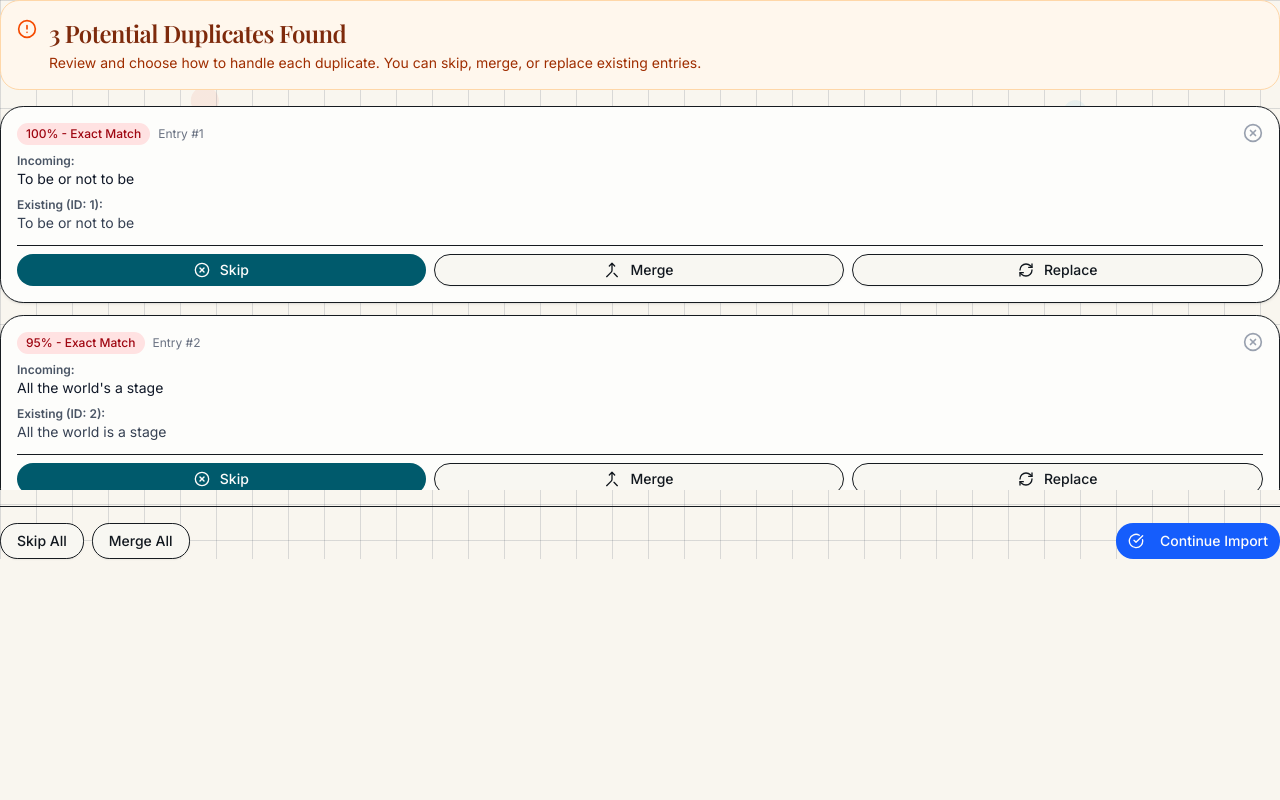
it: DuplicateConflictResolver › should close detail dialog when close button is clicked
Click on a duplicate card to open detail dialog
Click the text "Entry #1" at (181, 134), box [158, 126, 204, 142]
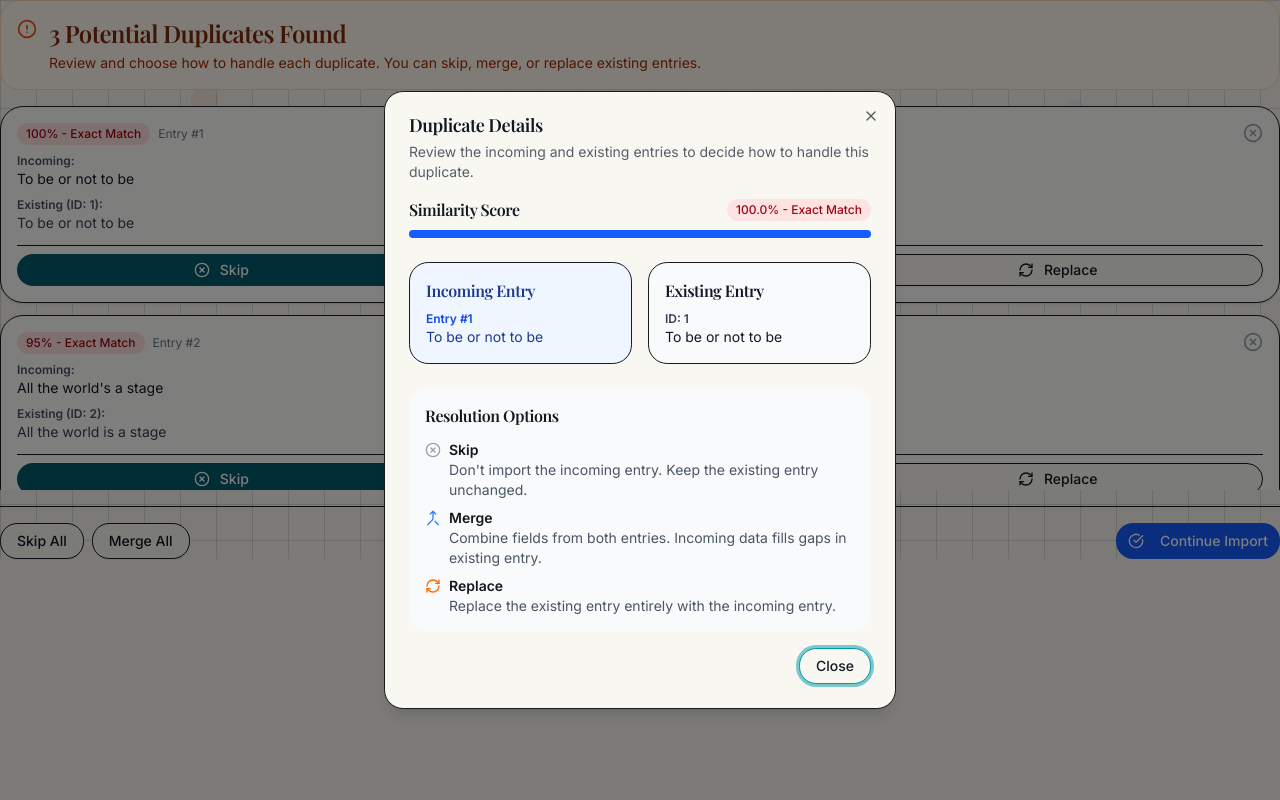
expect the heading "Duplicate Details" is shown: met, box [409, 113, 543, 137]
Click close button
Click the button "Close" at (835, 666), box [799, 648, 871, 684]
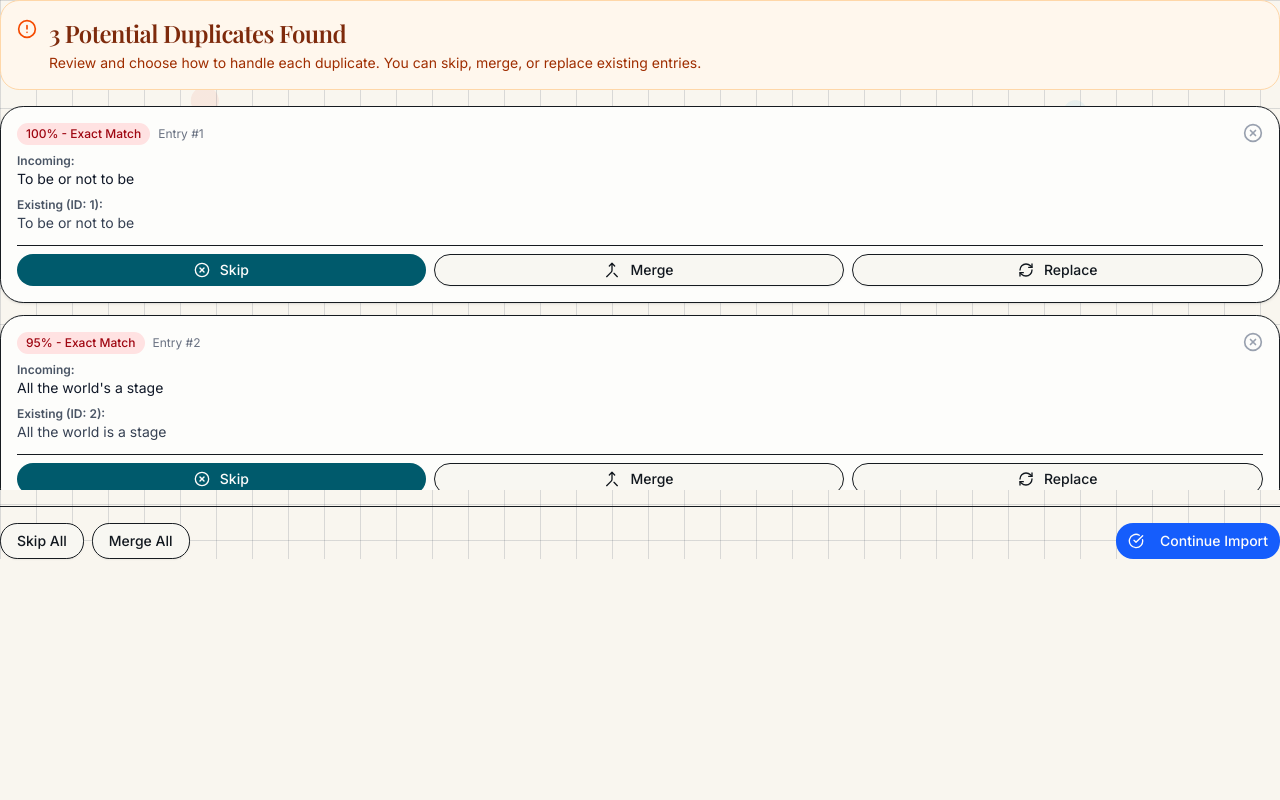
expect the heading "Duplicate Details" is gone: met
